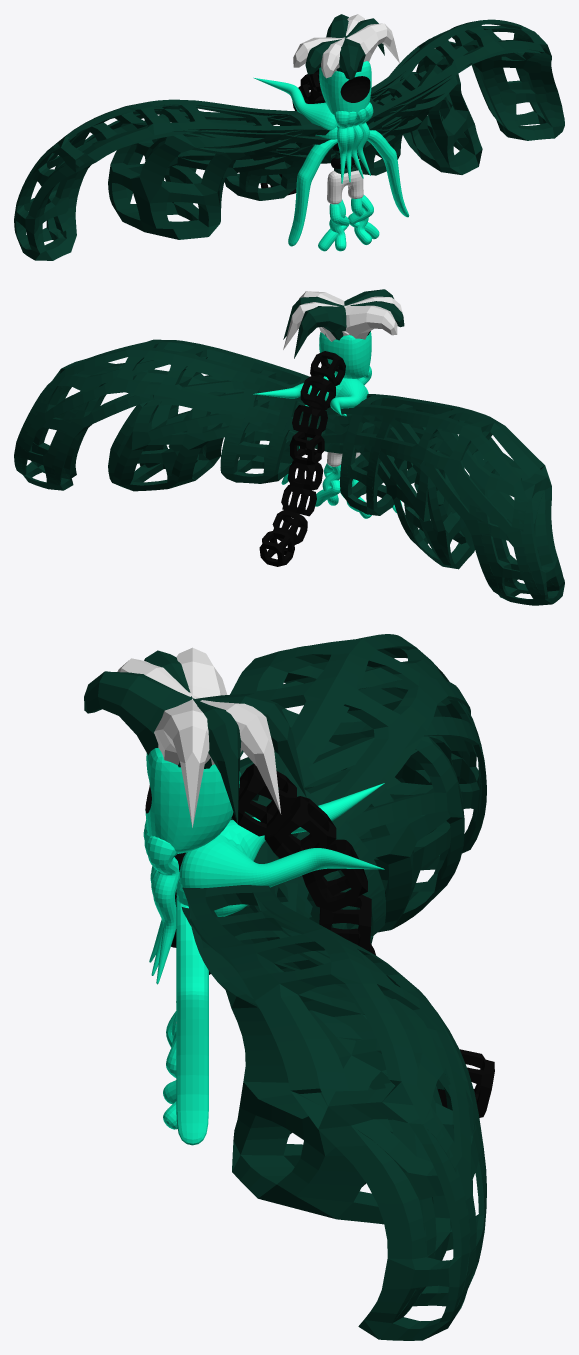
Rendered from jelklhu.fbx.
The picture shows the model from 3 angles, top to bottom: view 1: azimuth 30°, elevation 25°; view 2: azimuth 150°, elevation 25°; view 3: azimuth 270°, elevation 25°; orthographic projection. The views are drawn at different scales.
Visible parts, largest first — view 1: Cube.018, Cube.023, Cube.013, Cube.019, Cube.022, Cube.008, Cube, Cube.021, Cube.020, Cube.014, Cube.002, Cube.003 (+6 smaller); view 2: Cube.018, Cube.022, Cube.019, Cube.013, Cube.008, Cube.024, Cube.021, Cube.012, Cube.010, Cube.009, Cube.011, Cube.026 (+4 smaller); view 3: Cube.018, Cube.008, Cube.023, Cube.022, Cube.013, Cube.019, Cube.021, Cube.020, Cube.009, Cube.015, Cube.010, Cube.011 (+2 smaller).
Part boxes in pixels (bbox=[...]): Cube.018: bbox=[14, 19, 564, 260]; Cube.023: bbox=[288, 130, 409, 246]; Cube.013: bbox=[319, 61, 371, 114]; Cube.019: bbox=[293, 23, 399, 67]; Cube.022: bbox=[326, 14, 365, 79]; Cube.008: bbox=[253, 77, 365, 131]; Cube: bbox=[327, 170, 363, 204]; Cube.021: bbox=[321, 14, 364, 78]; Cube.020: bbox=[305, 18, 384, 74]; Cube.014: bbox=[334, 111, 349, 183]; Cube.002: bbox=[318, 204, 349, 251]; Cube.003: bbox=[348, 195, 379, 239]; Cube.018: bbox=[14, 339, 564, 605]; Cube.022: bbox=[294, 289, 393, 358]; Cube.019: bbox=[299, 291, 397, 339]; Cube.013: bbox=[319, 331, 371, 378]; Cube.008: bbox=[253, 376, 367, 415]; Cube.024: bbox=[259, 530, 294, 566]; Cube.021: bbox=[283, 296, 402, 349]; Cube.012: bbox=[289, 431, 324, 465]; Cube.010: bbox=[300, 375, 335, 410]; Cube.009: bbox=[310, 351, 345, 385]; Cube.011: bbox=[292, 405, 327, 435]; Cube.026: bbox=[281, 485, 316, 516]; Cube.018: bbox=[181, 634, 486, 1340]; Cube.008: bbox=[179, 783, 384, 888]; Cube.023: bbox=[176, 897, 208, 1145]; Cube.022: bbox=[84, 671, 306, 797]; Cube.013: bbox=[145, 748, 240, 853]; Cube.019: bbox=[154, 647, 227, 827]; Cube.021: bbox=[117, 658, 281, 814]; Cube.020: bbox=[144, 650, 241, 824]; Cube.009: bbox=[231, 763, 296, 836]; Cube.015: bbox=[147, 835, 179, 984]; Cube.010: bbox=[264, 796, 336, 858]; Cube.011: bbox=[302, 839, 367, 911].
Size of the model in its own units: 2474 by 951 by 829.
